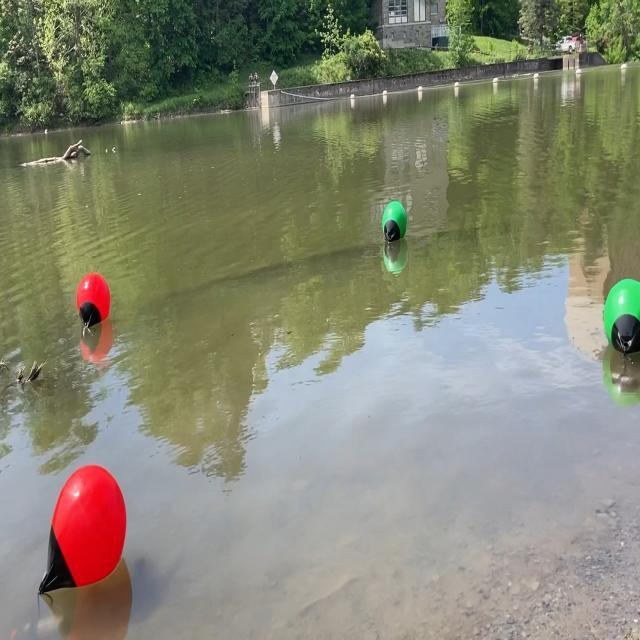buoy: (32, 463, 130, 599), (601, 275, 639, 359), (74, 270, 112, 337), (381, 197, 408, 245)
